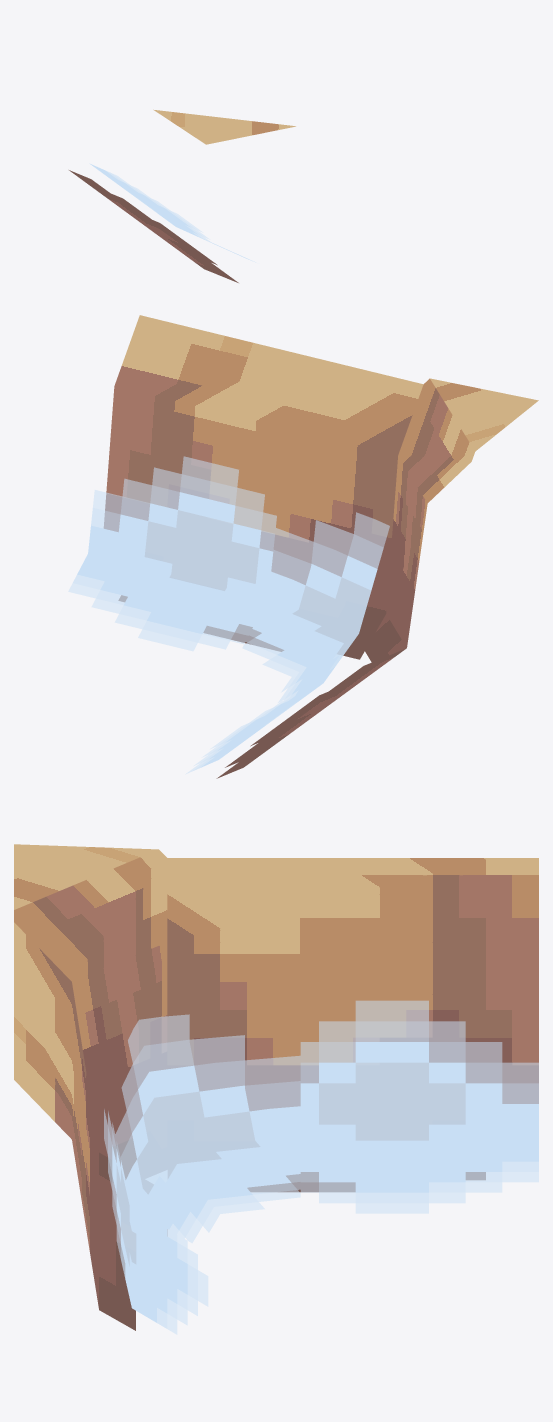
3 renders of one model, top to bottom at view 1: azimuth 30°, elevation 25°; view 2: azimuth 150°, elevation 25°; view 3: azimuth 270°, elevation 25°, orthographic. The views are drawn at different scales.
Bounding box in the file's own units: 1 × 0.7179 × 1.
Materials: 2 (2 with a texture image).
